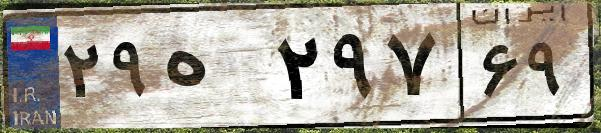2: (270, 28, 330, 110), (57, 26, 110, 100)
6: (475, 38, 525, 113)
7: (385, 28, 445, 110)
9: (330, 28, 385, 110), (525, 38, 570, 115), (110, 28, 158, 98)
ه: (158, 20, 270, 120)
